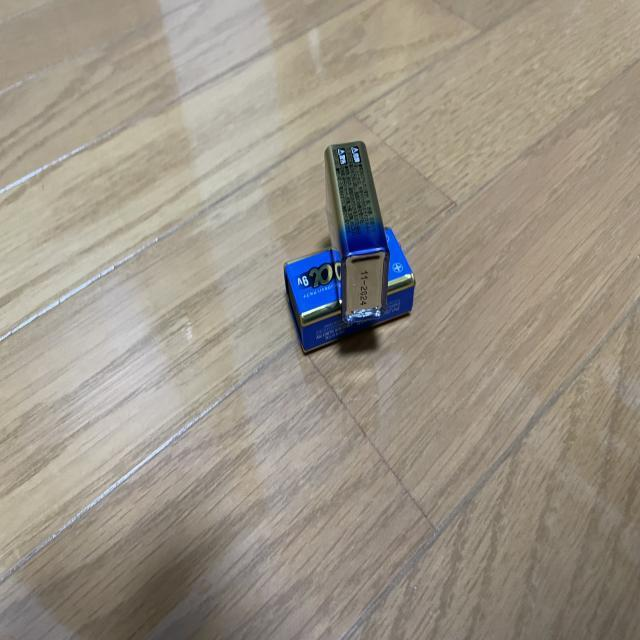9V: (284, 226, 416, 355), (323, 140, 401, 330)
